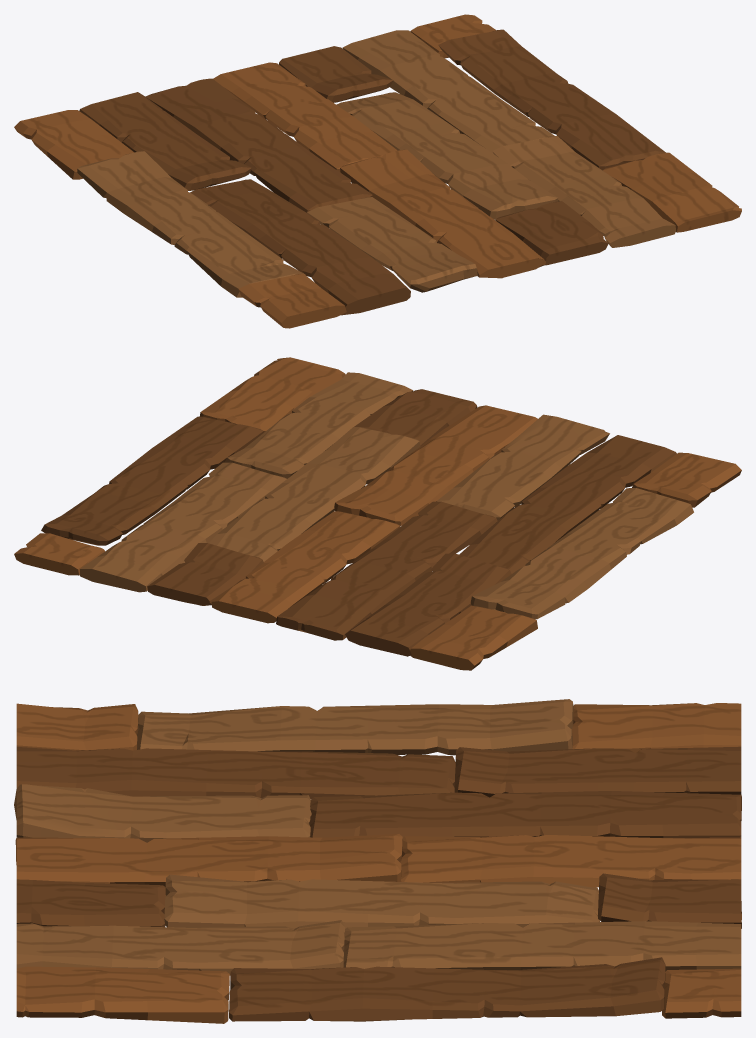
File: plancher.fbx
3 renders of one model, top to bottom at view 1: azimuth 30°, elevation 25°; view 2: azimuth 150°, elevation 25°; view 3: azimuth 270°, elevation 25°, orthographic. The views are drawn at different scales.
Parts seen in each view (by area): view 1: plancher:bois; view 2: plancher:bois; view 3: plancher:bois.
Boxes of the visible parts, x1=… form: plancher:bois: x1=14, y1=14, x2=741, y2=328; plancher:bois: x1=14, y1=357, x2=741, y2=670; plancher:bois: x1=14, y1=699, x2=741, y2=1023.
Bounding box in the file's own units: 353 × 18.4 × 350.
1 material, 1 textured.
